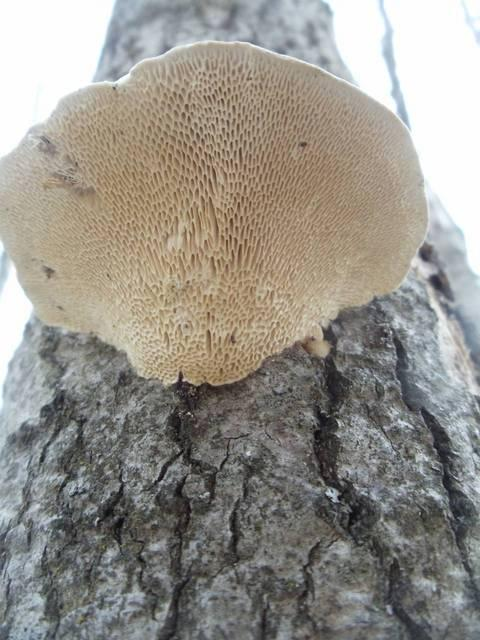Non-edible Mushroom: (0, 38, 431, 388)
